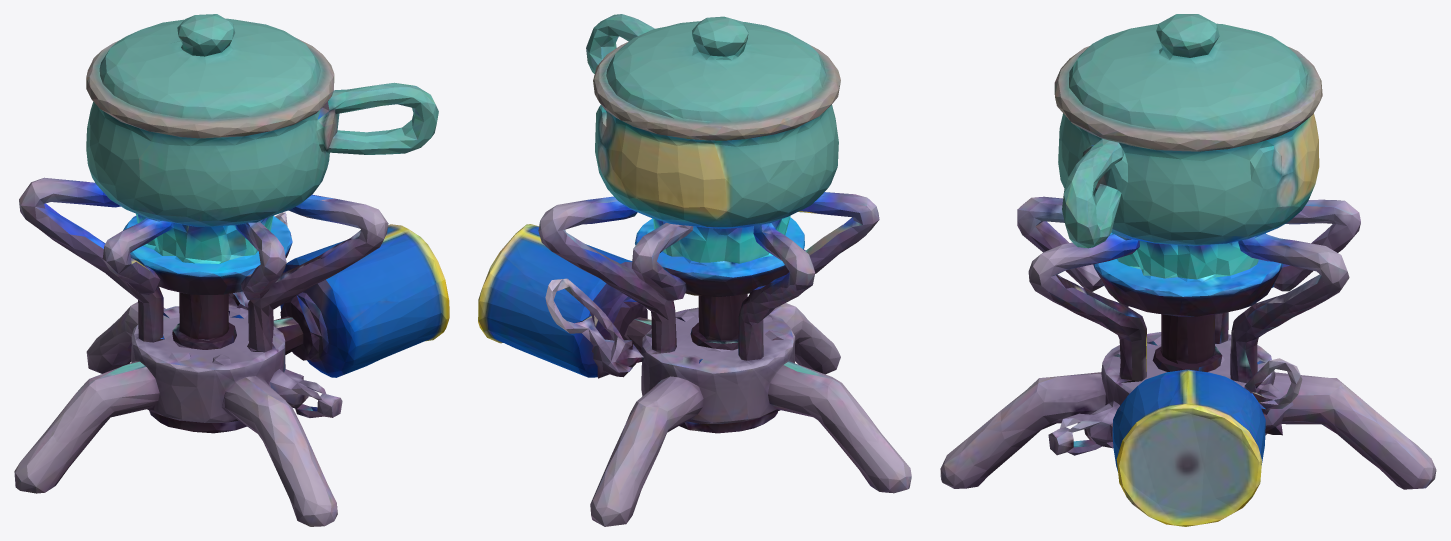
The model's file is portable_stove.glb.
3 views of the same model, side by side, from view 1: azimuth 30°, elevation 25°; view 2: azimuth 150°, elevation 25°; view 3: azimuth 270°, elevation 25° (orthographic). The views are drawn at different scales.
Parts seen in each view (by area): view 1: tmpf1pf1woo.ply; view 2: tmpf1pf1woo.ply; view 3: tmpf1pf1woo.ply.
Boxes of the visible parts, x1,y1,x2,y2 form: tmpf1pf1woo.ply: (14,14,449,526); tmpf1pf1woo.ply: (478,14,911,526); tmpf1pf1woo.ply: (940,14,1436,526).
Bounding box in the file's own units: 1.94 × 1.96 × 1.92.
Materials: 1 (1 with a texture image).
